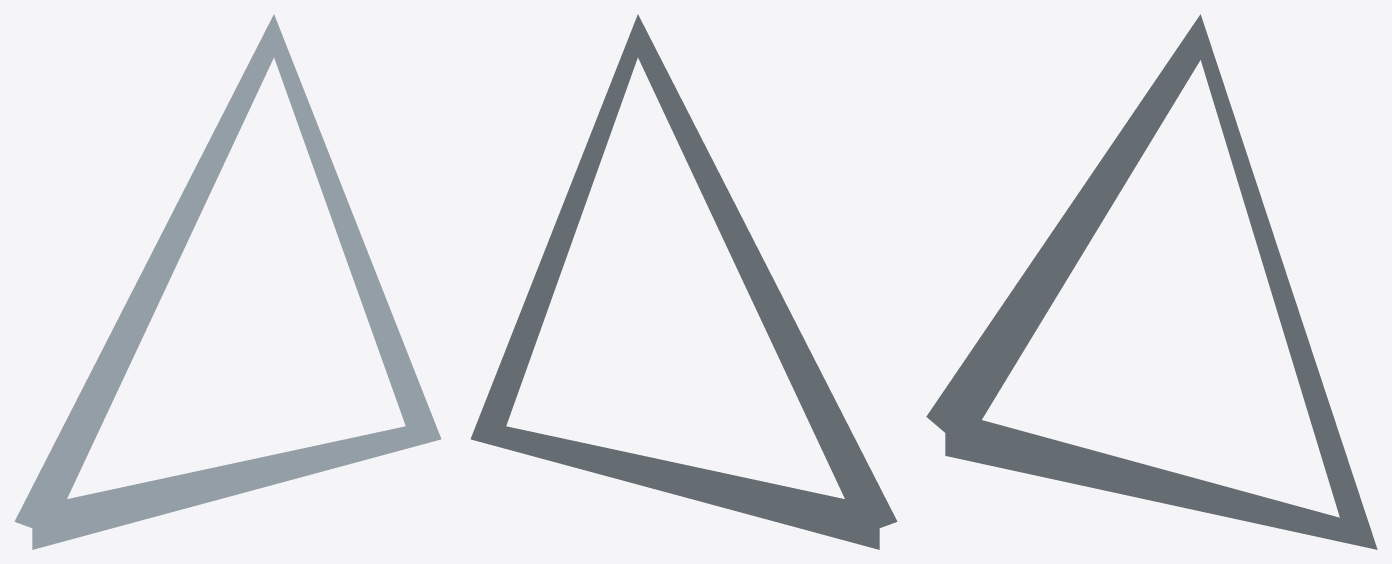
Rendered from Xinyan_RiffRevolutionFlames_Trigger_RockTriangle.fbx.
The picture shows the model from 3 angles, left to right: view 1: azimuth 30°, elevation 25°; view 2: azimuth 150°, elevation 25°; view 3: azimuth 330°, elevation 25°; orthographic projection. The views are drawn at different scales.
Visible parts, largest first — view 1: PART_ObservedOpenStageTriangle; view 2: PART_ObservedOpenStageTriangle; view 3: PART_ObservedOpenStageTriangle.
Boxes of the visible parts, x1,y1,x2,y2 form: PART_ObservedOpenStageTriangle: (14,14,441,549); PART_ObservedOpenStageTriangle: (470,14,897,549); PART_ObservedOpenStageTriangle: (926,14,1377,549).
Bounding box in the file's own units: 37.11 × 39.6 × 6.45e-06.
